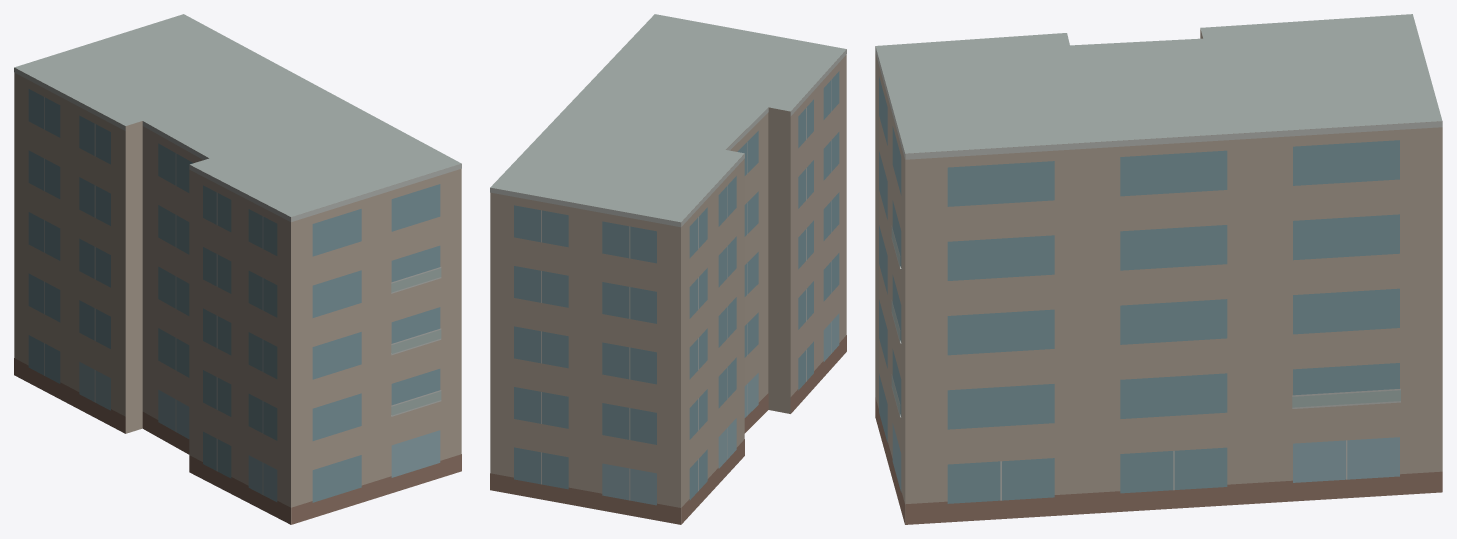
File: survey-upis-32530701.glb
3 renders of one model, left to right at view 1: azimuth 30°, elevation 25°; view 2: azimuth 150°, elevation 25°; view 3: azimuth 270°, elevation 25°, orthographic. The views are drawn at different scales.
Visible parts, largest first — view 1: survey-upis-32530701.tmp; view 2: survey-upis-32530701.tmp; view 3: survey-upis-32530701.tmp.
Boxes of the visible parts, x1,y1,x2,y2 form: survey-upis-32530701.tmp: (14,14,461,524); survey-upis-32530701.tmp: (490,14,846,524); survey-upis-32530701.tmp: (875,14,1442,524).
Bounding box in the file's own units: 11.95 × 14.8 × 20.5.
